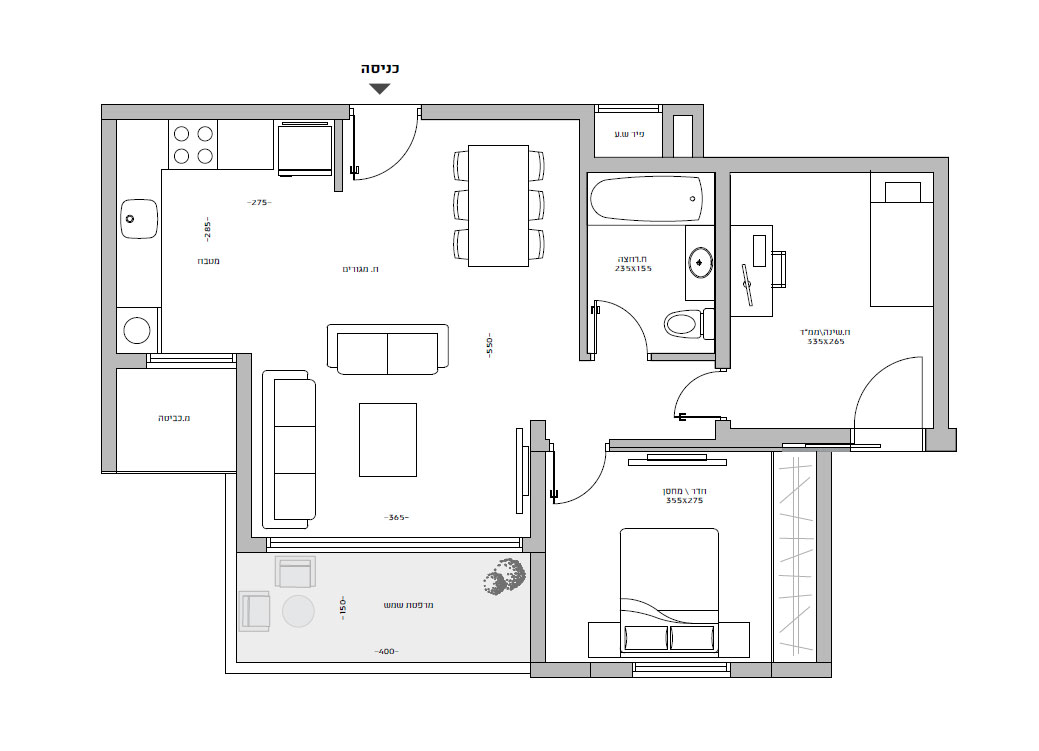door: (850, 342, 927, 423), (347, 125, 433, 190), (586, 293, 657, 350), (553, 459, 614, 510), (663, 365, 709, 431)
wall: (580, 157, 924, 171), (102, 122, 115, 475), (933, 156, 948, 453), (818, 466, 829, 677)
window: (265, 537, 523, 548), (146, 353, 236, 364)
